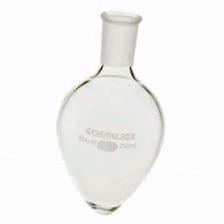Pear shaped flask: (58, 10, 162, 210)
